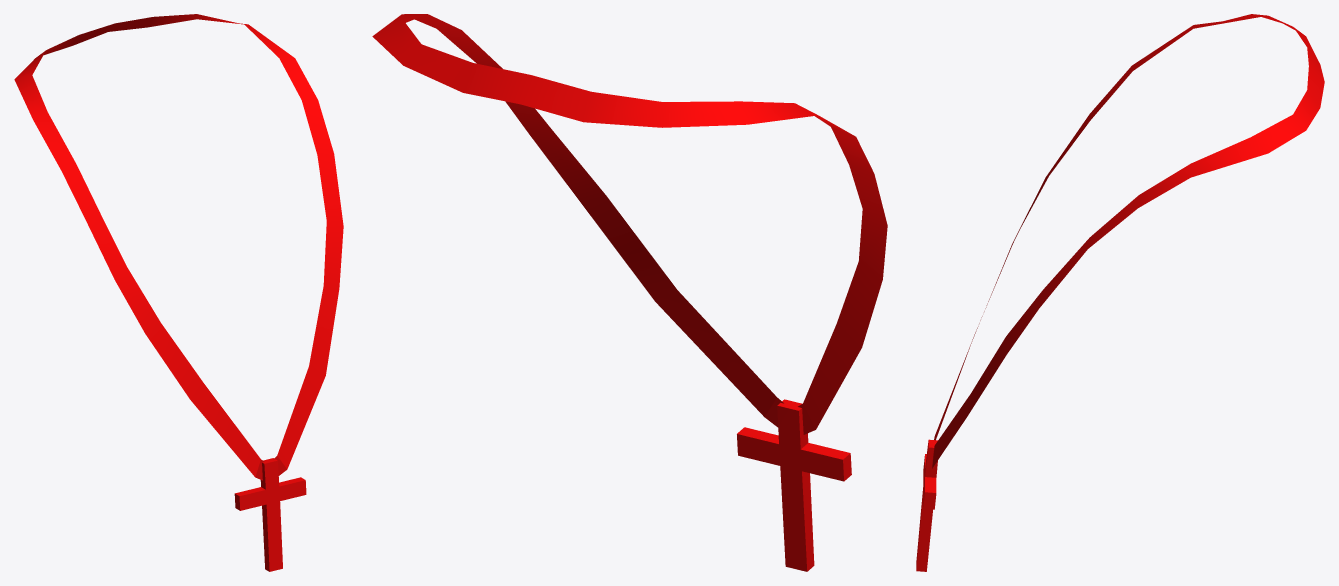
File: accs_000_u_high.FBX
3 renders of one model, left to right at view 1: azimuth 30°, elevation 25°; view 2: azimuth 150°, elevation 25°; view 3: azimuth 270°, elevation 25°, orthographic. The views are drawn at different scales.
Visible parts, largest first — view 1: accs_000_u_high; view 2: accs_000_u_high; view 3: accs_000_u_high.
Boxes of the visible parts, x1,y1,x2,y2 form: accs_000_u_high: (14,14,343,571); accs_000_u_high: (372,14,887,571); accs_000_u_high: (916,14,1324,571).
Size of the model in its own units: 0.1987 by 0.3086 by 0.2266.
